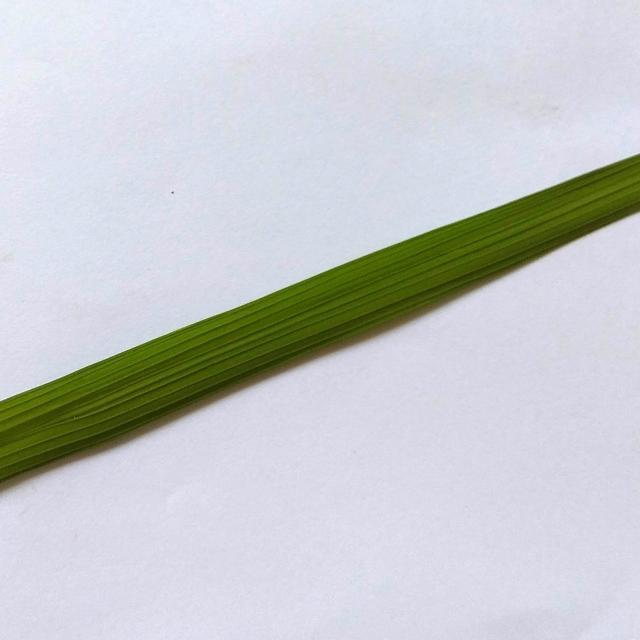Rice_Healthy: (0, 155, 640, 481)
